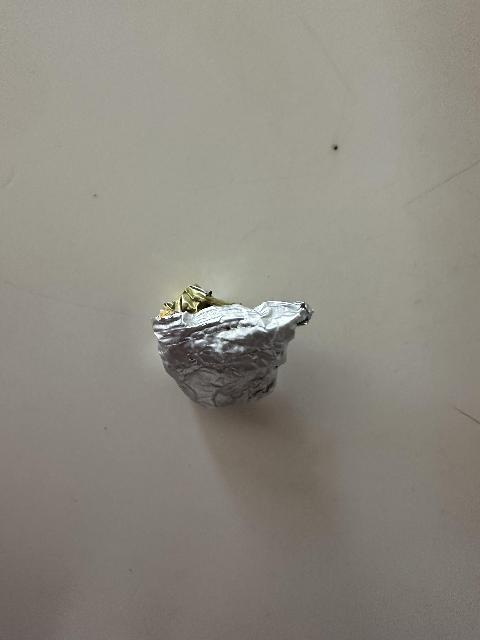Metal: (152, 283, 314, 415)
